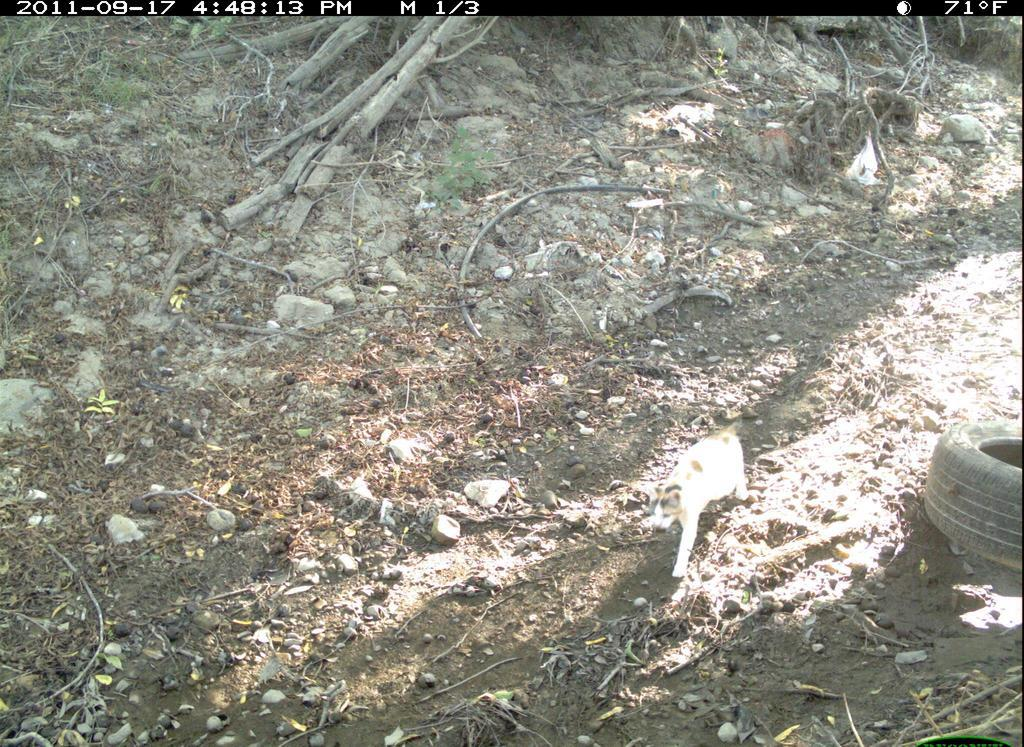cat: (644, 404, 772, 596)
